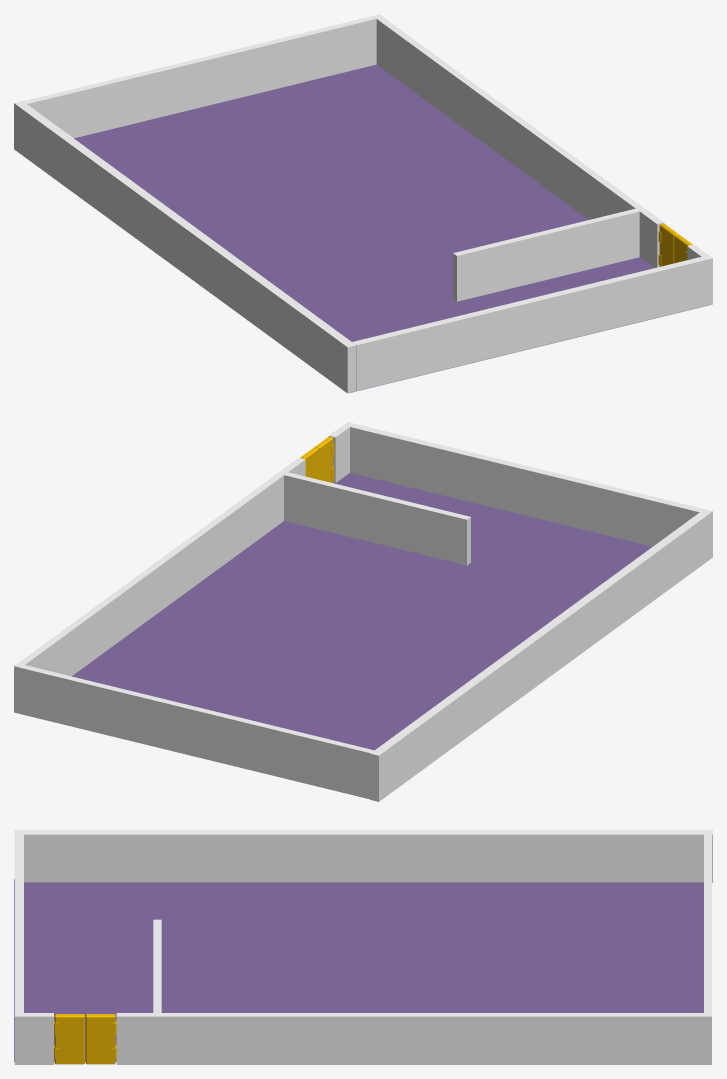
Rendered from maps_63.fbx.
3 renders of one model, top to bottom at view 1: azimuth 30°, elevation 25°; view 2: azimuth 150°, elevation 25°; view 3: azimuth 270°, elevation 25°, orthographic. The views are drawn at different scales.
Visible parts, largest first — view 1: wall_01_08_geo, wall_01_07_geo, wall_01_05_geo, wall_01_09_geo, wall_01_06_geo1, wall_01_09_geo3, polySurface161; view 2: wall_01_08_geo, wall_01_07_geo, wall_01_09_geo, wall_01_05_geo, wall_01_06_geo1, wall_01_09_geo3, wall_01_06_geo, polySurface165; view 3: wall_01_08_geo, wall_01_07_geo, wall_01_06_geo1, wall_01_06_geo, wall_01_05_geo, polySurface161, polySurface165, wall_01_09_geo, wall_01_09_geo3.
Boxes of the visible parts, x1,y1,x2,y2 form: wall_01_08_geo: (74,64,707,392); wall_01_07_geo: (14,101,356,393); wall_01_05_geo: (352,257,705,391); wall_01_09_geo: (23,16,376,138); wall_01_06_geo1: (373,14,663,267); wall_01_09_geo3: (453,208,639,301); polySurface161: (658,223,677,266); wall_01_08_geo: (72,473,652,750); wall_01_07_geo: (370,509,712,801); wall_01_09_geo: (20,665,373,799); wall_01_05_geo: (350,423,703,546); wall_01_06_geo1: (14,458,305,713); wall_01_09_geo3: (284,472,470,565); wall_01_06_geo: (328,422,353,482); polySurface165: (314,436,334,482); wall_01_08_geo: (14,879,703,1061); wall_01_07_geo: (14,830,712,882); wall_01_06_geo1: (116,1013,711,1064); wall_01_06_geo: (14,1013,53,1064); wall_01_05_geo: (14,834,23,1012); polySurface161: (85,1014,116,1064); polySurface165: (54,1014,84,1064); wall_01_09_geo: (704,834,711,1012); wall_01_09_geo3: (153,919,161,1012).
Bounding box in the file's own units: 73.43 × 8.89 × 116.
Materials: 2 (2 with a texture image).
